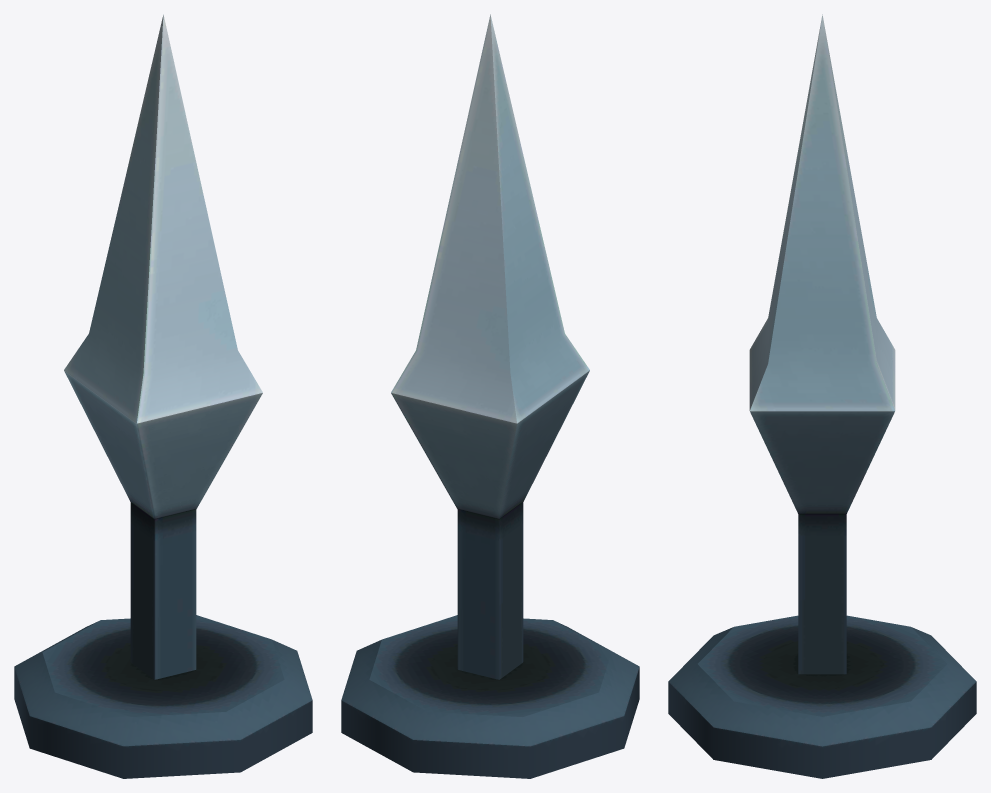
Rendered from jianci.fbx.
3 renders of one model, left to right at view 1: azimuth 30°, elevation 25°; view 2: azimuth 150°, elevation 25°; view 3: azimuth 270°, elevation 25°, orthographic.
Visible parts, largest first — view 1: Dummy001, jianci; view 2: Dummy001, jianci; view 3: Dummy001, jianci.
Part boxes in pixels (x1,y1,x2,y2): Dummy001: (64,14,262,679); jianci: (14,615,312,778); Dummy001: (391,14,589,679); jianci: (341,615,639,778); Dummy001: (749,14,895,674); jianci: (668,615,976,778).
Size of the model in its own units: 0.7372 by 1.85 by 0.7372.
